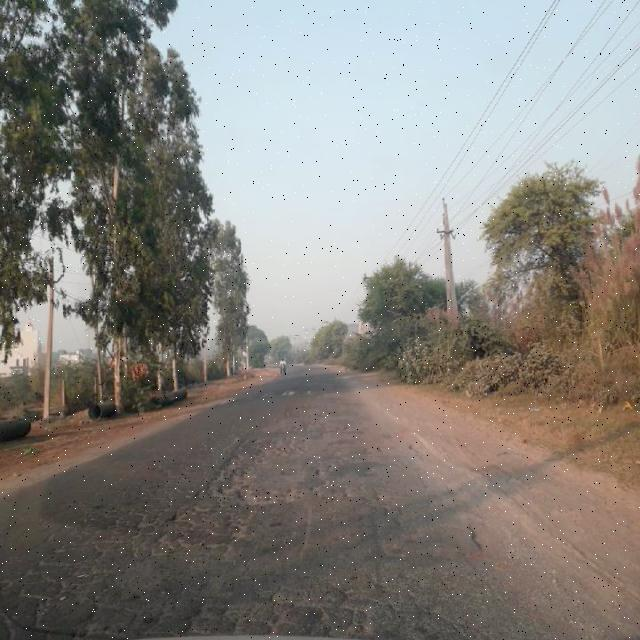D00: (463, 516, 486, 556)
D20: (8, 466, 439, 637), (135, 404, 405, 465)
